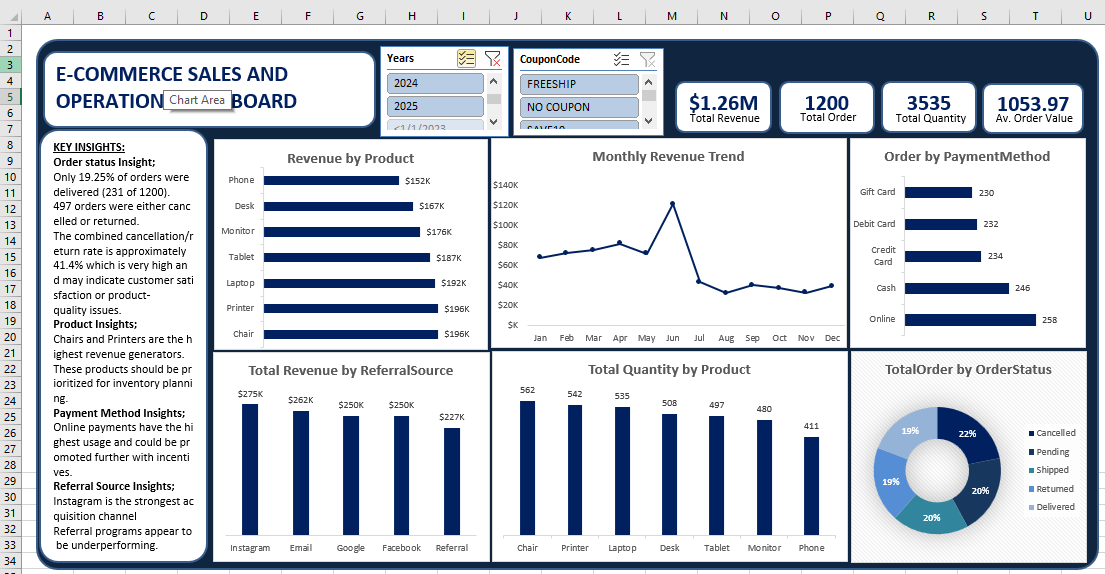

Layout of this report page (visuals, bound fields, positions):
{"tool":"powerbi","page":{"name":"Page 2","canvas":[1600,850],"ordinal":1},"visuals":[{"type":"barChart","fields":{"Category":["CleanedData.Product"],"Y":["CleanedData.Total Revenue"]},"box":[332.1,169.6,421.4,332.1],"z":0},{"type":"columnChart","fields":{"Category":["CleanedData.Product"],"Y":["CleanedData.Total Quantity"]},"box":[758.9,505.4,403.6,335.7],"z":1000},{"type":"lineChart","title":"Monthly Revenue Trend","fields":{"Category":["CleanedData.Date.Variation.Date Hierarchy.Month"],"Y":["CleanedData.Total Revenue"]},"box":[332.1,505.4,421.4,335.7],"z":2000},{"type":"clusteredColumnChart","fields":{"Y":["CleanedData.Total Order"],"Category":["CleanedData.ReferralSource"]},"box":[758.9,169.6,403.6,332.1],"z":3000},{"type":"barChart","fields":{"Category":["CleanedData.PaymentMethod"],"Y":["CleanedData.Total Order"]},"box":[1169.6,505.4,412.5,335.7],"z":4000},{"type":"donutChart","fields":{"Category":["CleanedData.OrderStatus"],"Y":["CleanedData.Total Order"]},"box":[1169.6,169.6,412.5,332.1],"z":5000},{"type":"card","fields":{"Values":["CleanedData.Total Revenue"]},"box":[800.3,80.4,175,85.7],"z":6000},{"type":"card","fields":{"Values":["CleanedData.Total Order"]},"box":[982.4,80.4,180.4,85.7],"z":7000},{"type":"card","fields":{"Values":["CleanedData.Total Quantity"]},"box":[1171.7,80.4,201.8,85.7],"z":8000},{"type":"card","fields":{"Values":["CleanedData.Av. Order Value"]},"box":[1380.6,80.4,201.8,85.7],"z":9000},{"type":"advancedSlicerVisual","fields":{"Values":["CleanedData.Date.Variation.Date Hierarchy.Year"]},"box":[1267.9,1.8,314.3,76.8],"z":10000},{"type":"slicer","fields":{"Values":["CleanedData.CouponCode"]},"box":[4.6,153.8,315.4,158.5],"z":11000},{"type":"textbox","box":[5.4,319.6,314.3,521.4],"z":12000},{"type":"textbox","box":[7.1,14.3,691.1,125],"z":13000}]}

Visuals, with their boxes in screenshot pixels (x1, y1, x2, y2):
barChart - CleanedData.Product x CleanedData.Total Revenue: bbox=[216, 132, 486, 345]
columnChart - CleanedData.Product x CleanedData.Total Quantity: bbox=[489, 347, 748, 562]
"Monthly Revenue Trend" lineChart: bbox=[216, 347, 486, 562]
clusteredColumnChart - CleanedData.Total Order x CleanedData.ReferralSource: bbox=[489, 132, 748, 345]
barChart - CleanedData.PaymentMethod x CleanedData.Total Order: bbox=[752, 347, 1017, 562]
donutChart - CleanedData.OrderStatus x CleanedData.Total Order: bbox=[752, 132, 1017, 345]
card - CleanedData.Total Revenue: bbox=[516, 75, 628, 129]
card - CleanedData.Total Order: bbox=[632, 75, 748, 129]
card - CleanedData.Total Quantity: bbox=[754, 75, 883, 129]
card - CleanedData.Av. Order Value: bbox=[888, 75, 1017, 129]
advancedSlicerVisual - CleanedData.Date.Variation.Date Hierarchy.Year: bbox=[815, 24, 1017, 73]
slicer - CleanedData.CouponCode: bbox=[6, 122, 208, 223]
textbox: bbox=[6, 228, 208, 562]
textbox: bbox=[7, 32, 450, 112]
